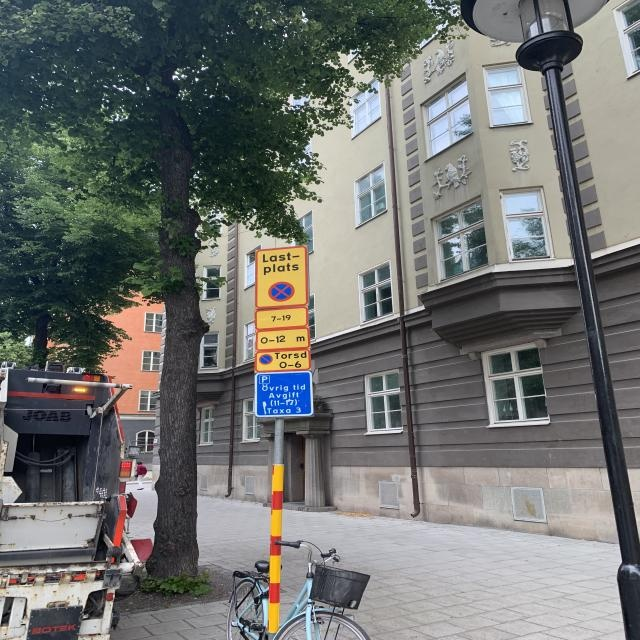lastplats: (254, 245, 308, 311)
